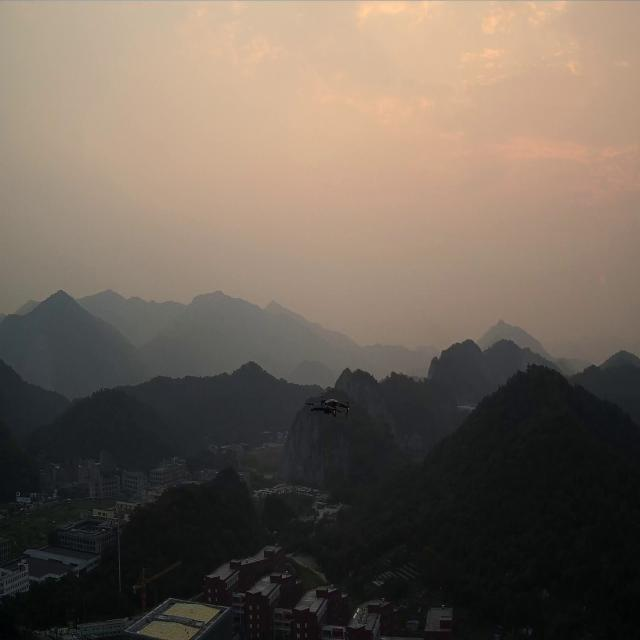UAV: (302, 393, 351, 419)
